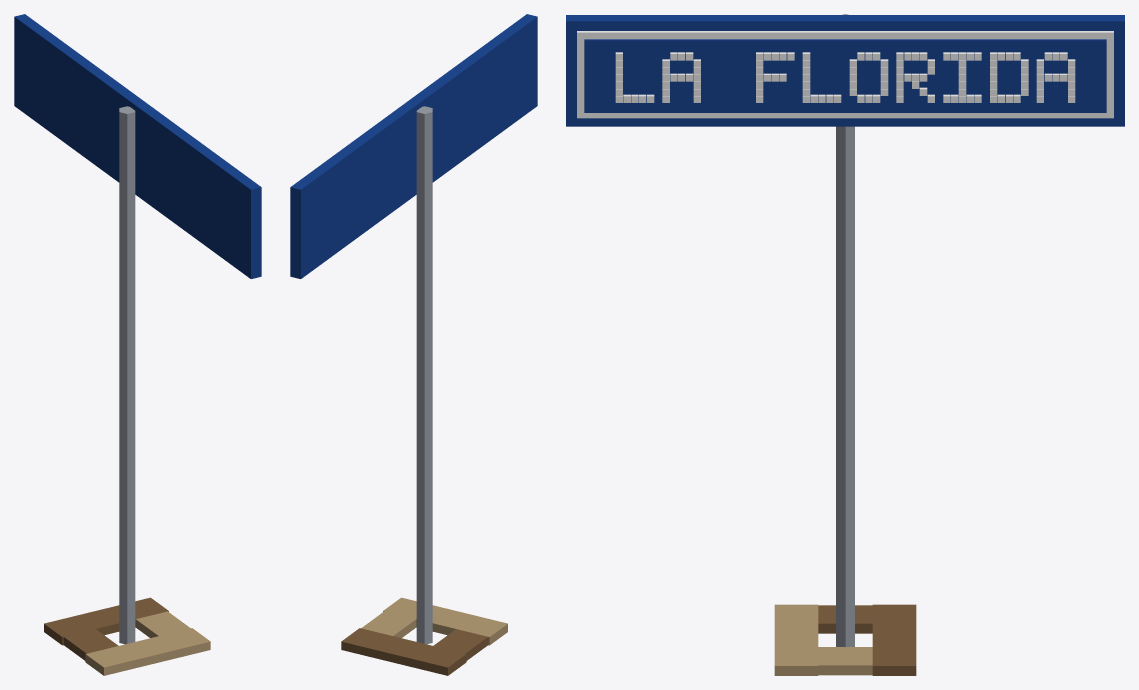
Rendered from letrero_comuna_la_florida.obj.
3 views of the same model, side by side, from view 1: azimuth 30°, elevation 25°; view 2: azimuth 150°, elevation 25°; view 3: azimuth 270°, elevation 25° (orthographic). The views are drawn at different scales.
Parts seen in each view (by area): view 1: letrero_comuna_la_florida; view 2: letrero_comuna_la_florida; view 3: letrero_comuna_la_florida.
Boxes of the visible parts, left/top/right/bottom form: letrero_comuna_la_florida: left=14, top=14, right=261, bottom=675; letrero_comuna_la_florida: left=290, top=14, right=537, bottom=675; letrero_comuna_la_florida: left=566, top=14, right=1124, bottom=675.
Bounding box in the file's own units: 0.8 × 3.84 × 3.07.
